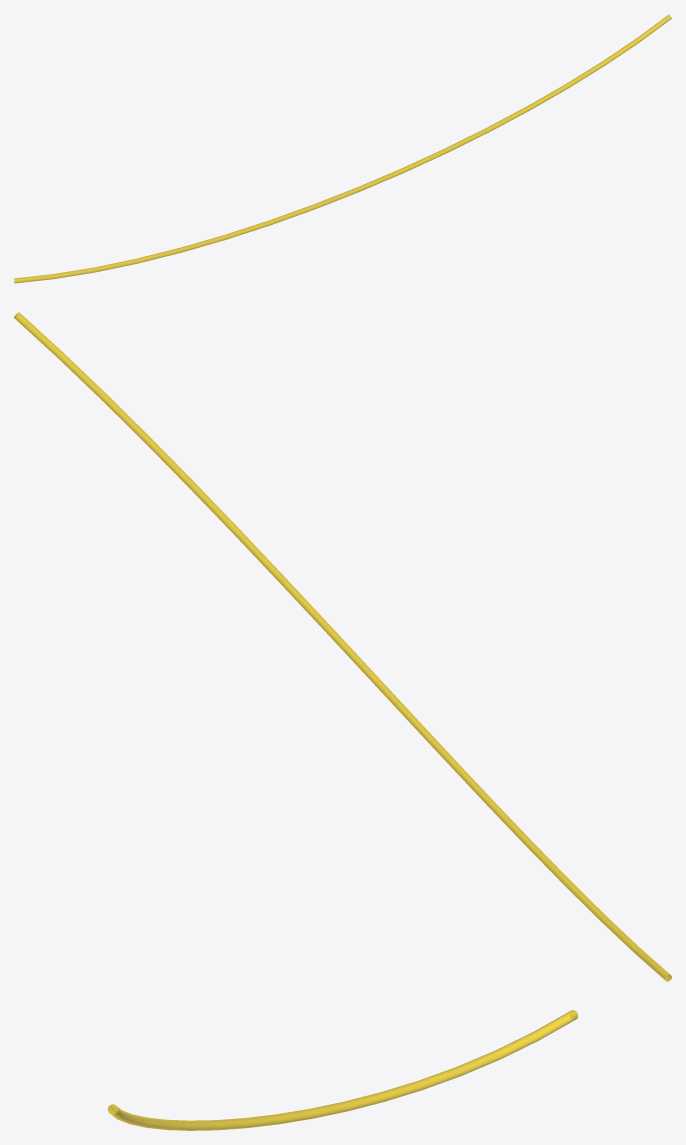
The model's file is Event_15818458_track_13.fbx.
The picture shows the model from 3 angles, top to bottom: view 1: azimuth 30°, elevation 25°; view 2: azimuth 150°, elevation 25°; view 3: azimuth 270°, elevation 25°; orthographic projection. The views are drawn at different scales.
Parts seen in each view (by area): view 1: Model; view 2: Model; view 3: Model.
Boxes of the visible parts, x1,y1,x2,y2 form: Model: [14, 14, 671, 283]; Model: [14, 312, 671, 981]; Model: [107, 1010, 578, 1130].
Size of the model in its own units: 4.84 by 1.88 by 1.82.
